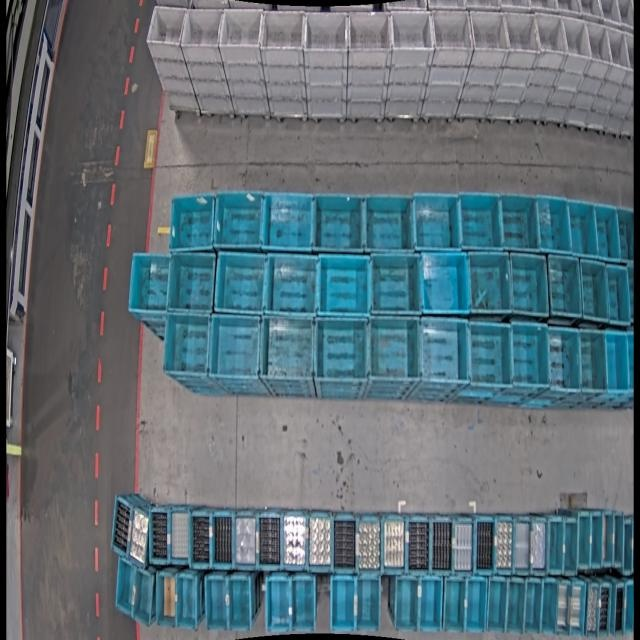Box: (209, 315, 263, 384), (316, 316, 370, 385), (213, 251, 268, 317), (263, 252, 318, 318), (316, 253, 371, 318), (261, 318, 315, 384), (213, 188, 268, 252), (368, 251, 420, 317), (161, 310, 210, 380), (313, 192, 367, 255), (371, 317, 421, 383), (418, 318, 467, 385), (363, 192, 414, 255), (168, 251, 218, 315), (263, 190, 314, 252), (422, 251, 471, 315), (168, 190, 216, 254), (125, 252, 171, 316), (411, 192, 459, 253), (509, 322, 551, 390), (468, 322, 510, 389), (456, 191, 502, 252), (508, 254, 549, 316), (468, 252, 508, 314), (547, 326, 582, 392), (500, 194, 539, 252), (547, 257, 582, 317), (260, 8, 307, 52), (346, 9, 393, 53), (303, 9, 349, 53), (538, 196, 572, 254), (391, 9, 435, 52), (220, 7, 264, 50), (181, 8, 224, 52), (147, 5, 188, 51), (470, 10, 509, 56), (566, 199, 598, 255), (505, 10, 540, 60), (579, 260, 608, 320), (432, 9, 473, 51), (580, 330, 607, 393), (308, 510, 334, 572), (534, 13, 564, 66), (603, 332, 629, 392), (593, 203, 620, 259), (354, 515, 379, 574), (333, 514, 358, 573), (603, 266, 629, 322), (111, 495, 133, 561), (406, 516, 431, 574), (382, 514, 406, 574), (282, 512, 306, 571), (267, 578, 292, 634), (259, 511, 283, 569), (235, 511, 259, 569), (131, 566, 154, 626), (211, 509, 234, 568), (128, 506, 149, 570), (452, 515, 474, 574), (418, 578, 442, 632), (332, 581, 356, 635), (229, 576, 252, 632), (174, 574, 197, 630), (190, 512, 212, 570), (291, 577, 314, 632), (205, 576, 228, 631), (168, 508, 190, 565), (561, 18, 592, 58), (115, 556, 135, 618), (475, 515, 496, 574), (354, 576, 376, 630), (487, 577, 508, 633), (585, 21, 612, 64), (428, 518, 448, 576), (512, 516, 532, 573), (393, 578, 414, 632), (494, 515, 513, 574), (539, 580, 559, 636), (464, 579, 485, 632), (444, 579, 465, 632), (605, 27, 631, 69), (158, 571, 177, 628), (616, 208, 634, 264), (566, 581, 584, 636), (508, 580, 526, 634), (527, 516, 544, 573), (525, 579, 542, 634), (549, 516, 565, 574), (150, 510, 167, 564), (556, 580, 572, 637), (562, 514, 577, 574), (597, 581, 612, 637), (590, 509, 604, 568), (612, 580, 626, 638), (578, 511, 592, 568), (586, 581, 600, 637), (613, 512, 626, 571), (600, 510, 613, 568), (543, 516, 555, 573)
